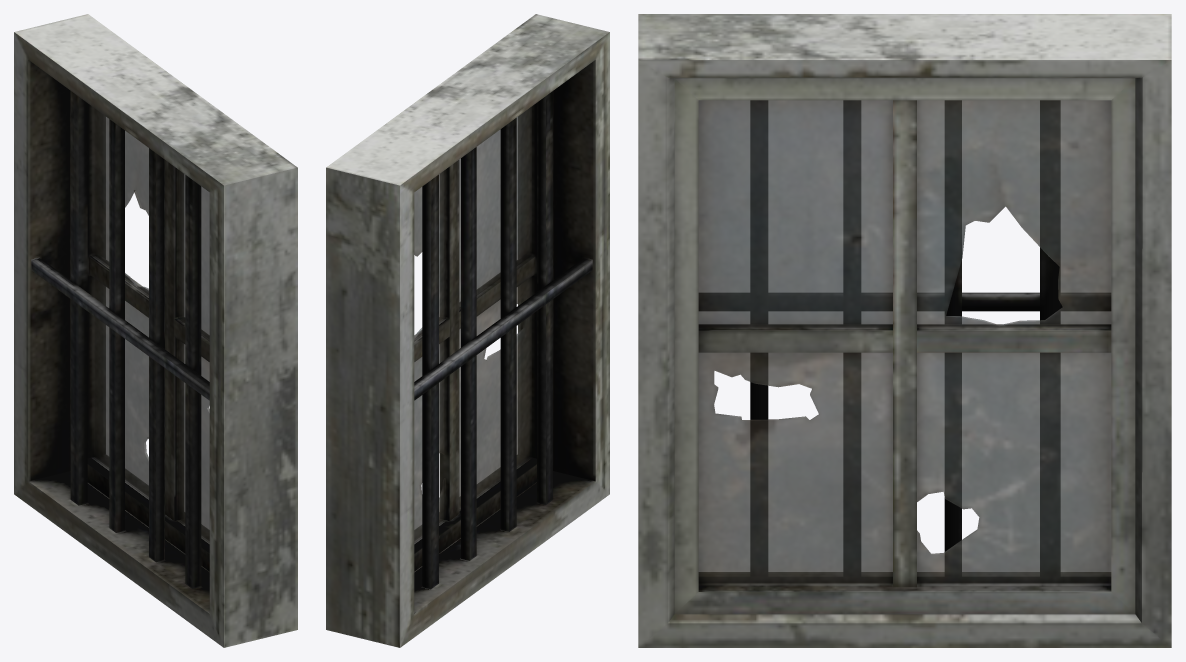
Rendered from Window_Toilet.FBX.
The picture shows the model from 3 angles, left to right: view 1: azimuth 30°, elevation 25°; view 2: azimuth 150°, elevation 25°; view 3: azimuth 270°, elevation 25°; orthographic projection. The views are drawn at different scales.
Visible parts, largest first — view 1: Window_Toilet; view 2: Window_Toilet; view 3: Window_Toilet.
Boxes of the visible parts, bbox=[...] form: Window_Toilet: bbox=[14, 14, 297, 647]; Window_Toilet: bbox=[326, 14, 609, 647]; Window_Toilet: bbox=[638, 14, 1171, 647].
Bounding box in the file's own units: 24.6 × 147 × 121.
